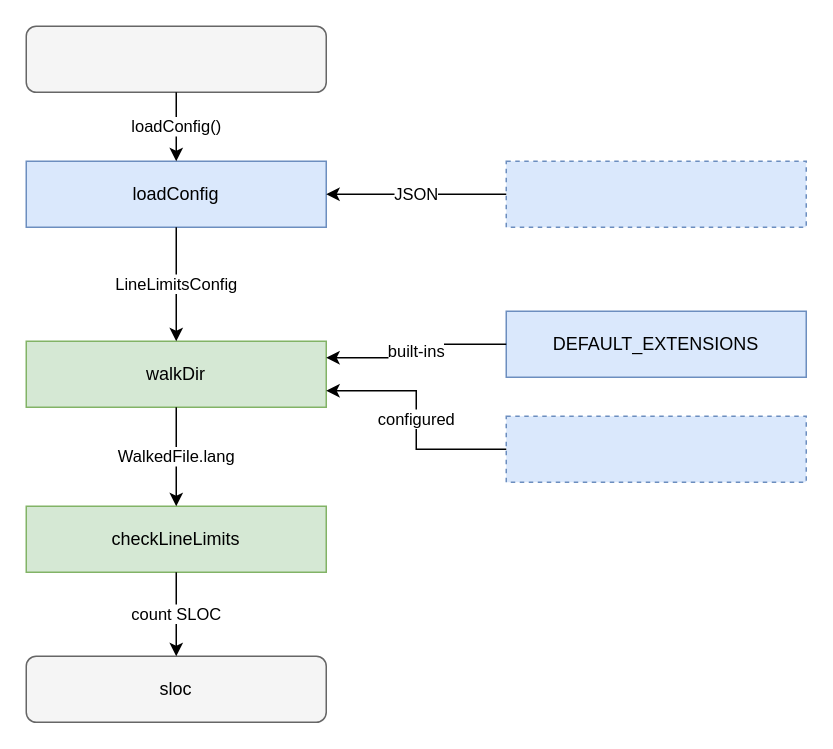
Image size: 833x749. Some labels were removed from this diagram. The box of each missing label's shape, as (x1, y1, x2, y2) in pixels:
cli.ts: (25, 25, 326, 92)
extensions: (505, 415, 806, 482)
line-limits.json: (505, 160, 806, 227)
